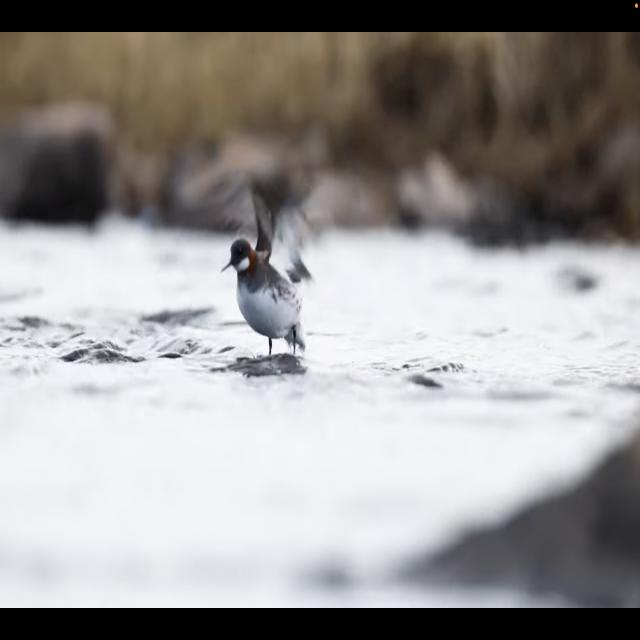beak: (220, 259, 233, 273)
bird: (219, 234, 311, 364)
